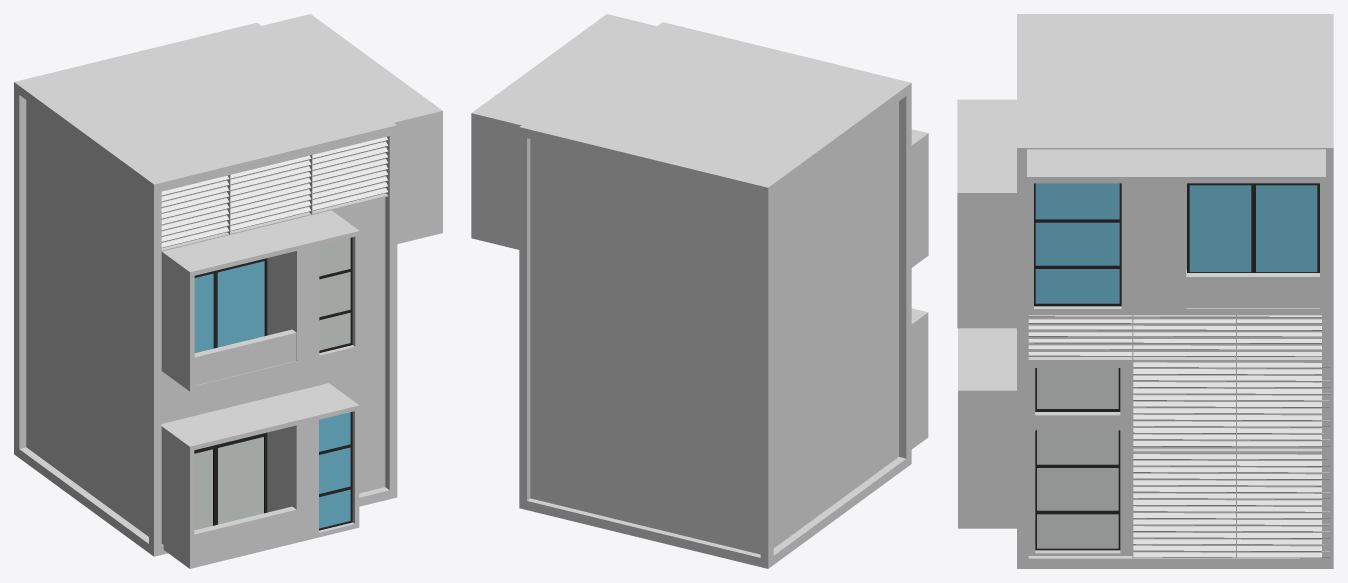
The model's file is Bloc_18A.fbx.
3 views of the same model, side by side, from view 1: azimuth 30°, elevation 25°; view 2: azimuth 150°, elevation 25°; view 3: azimuth 270°, elevation 25° (orthographic). The views are drawn at different scales.
Visible parts, largest first — view 1: Bloc_18A; view 2: Bloc_18A; view 3: Bloc_18A.
Boxes of the visible parts, box(x1,y1,x2,y2) form: Bloc_18A: box(14, 14, 442, 568); Bloc_18A: box(471, 14, 928, 568); Bloc_18A: box(957, 14, 1333, 568).
Bounding box in the file's own units: 740 × 914 × 753.
